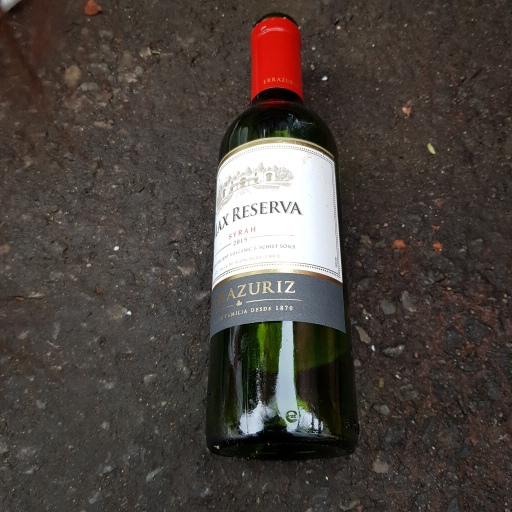Glass_2: (202, 12, 360, 462)
